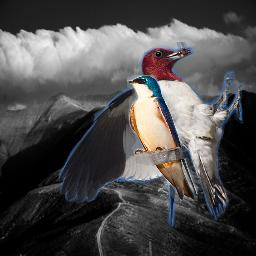Swallow: (127, 75, 198, 201)
Woodpecker: (59, 42, 243, 227)
